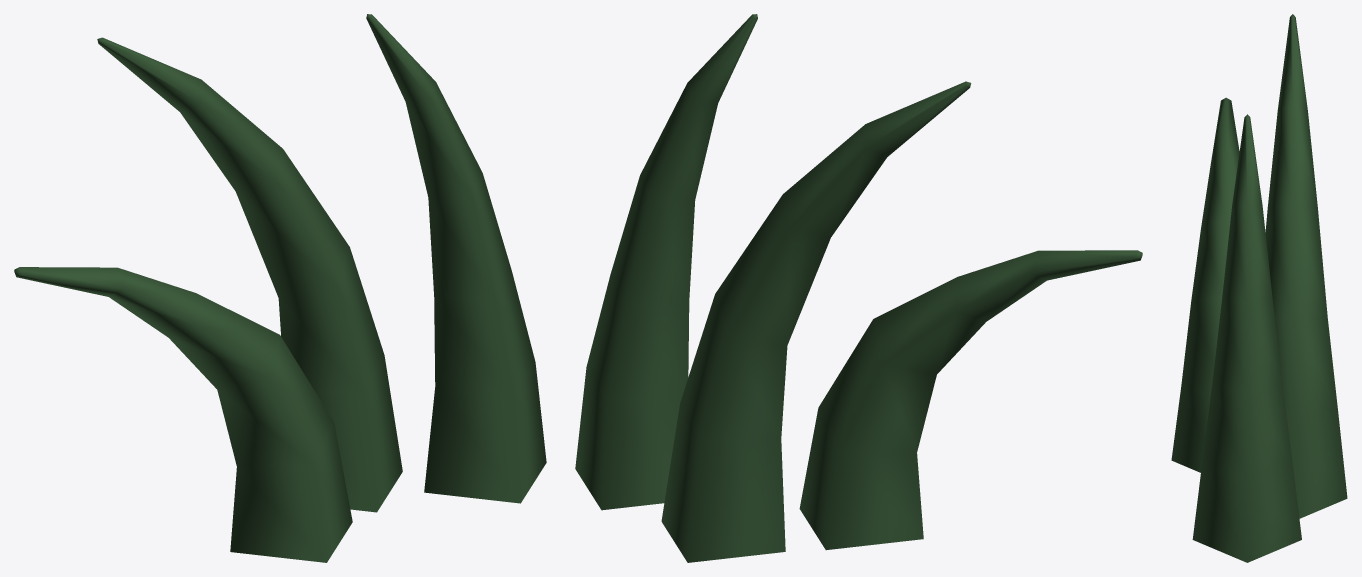
The model's file is grass-batch-2.fbx.
3 views of the same model, side by side, from view 1: azimuth 30°, elevation 25°; view 2: azimuth 150°, elevation 25°; view 3: azimuth 270°, elevation 25° (orthographic). The views are drawn at different scales.
Visible parts, largest first — view 1: GrassBatch_Cylinder_Cylinder.001; view 2: GrassBatch_Cylinder_Cylinder.001; view 3: GrassBatch_Cylinder_Cylinder.001.
Boxes of the visible parts, x1=… form: GrassBatch_Cylinder_Cylinder.001: x1=14, y1=14, x2=546, y2=562; GrassBatch_Cylinder_Cylinder.001: x1=575, y1=14, x2=1142, y2=562; GrassBatch_Cylinder_Cylinder.001: x1=1171, y1=14, x2=1347, y2=562.
Bounding box in the file's own units: 35.66 × 31.67 × 12.87.
